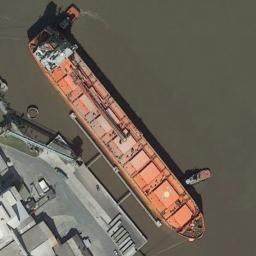boat: (16, 17, 211, 249), (181, 164, 212, 188), (55, 3, 82, 30)
